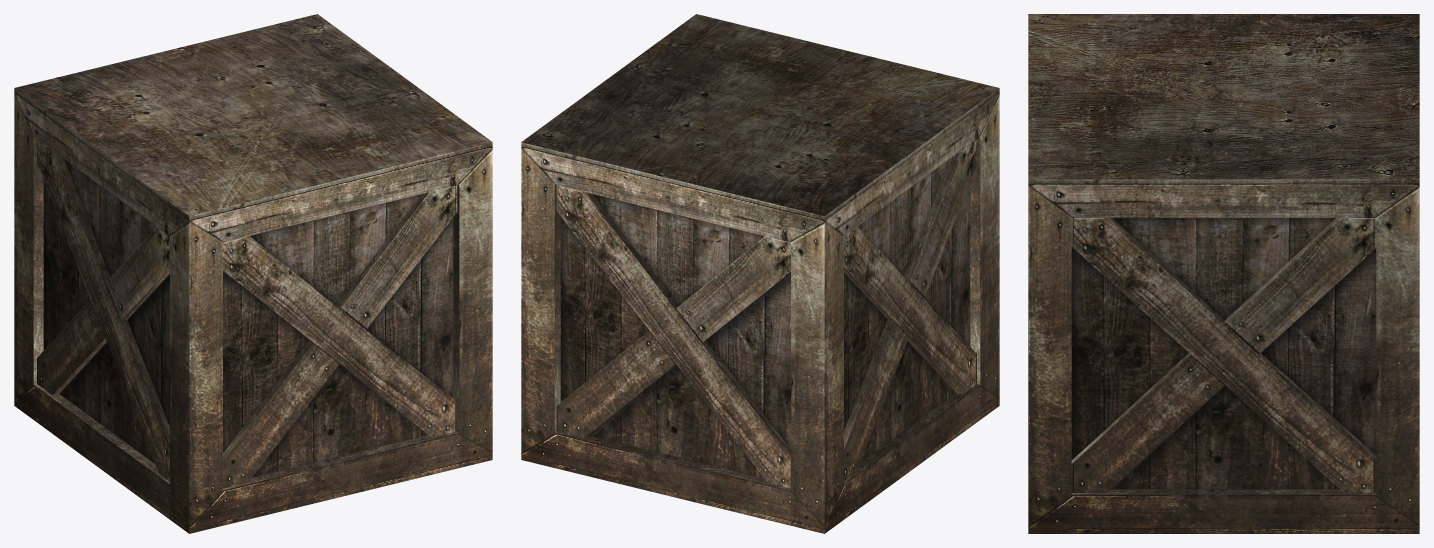
Rendered from wood_box.fbx.
The picture shows the model from 3 angles, left to right: view 1: azimuth 30°, elevation 25°; view 2: azimuth 150°, elevation 25°; view 3: azimuth 270°, elevation 25°; orthographic projection. The views are drawn at different scales.
Parts seen in each view (by area): view 1: wood_box.002; view 2: wood_box.002; view 3: wood_box.002.
Boxes of the visible parts, x1=… form: wood_box.002: x1=14, y1=14, x2=492, y2=533; wood_box.002: x1=521, y1=14, x2=999, y2=533; wood_box.002: x1=1028, y1=14, x2=1419, y2=533.
Bounding box in the file's own units: 1.63 × 1.63 × 1.63.
Materials: 1 (1 with a texture image).
